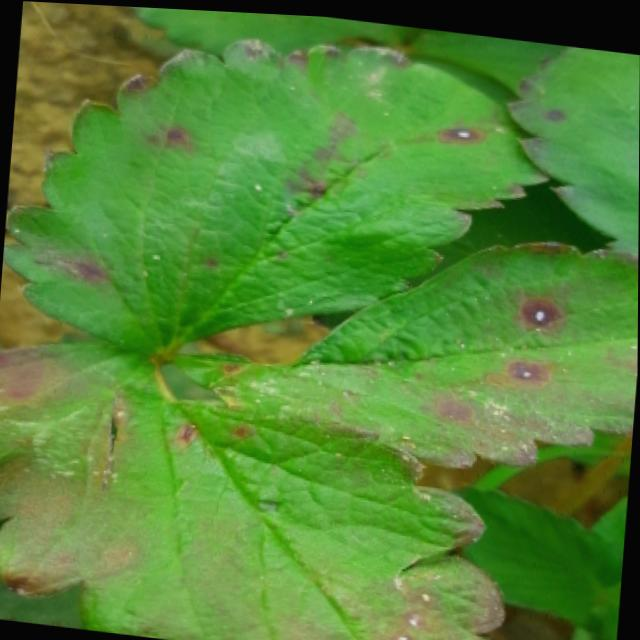Leaf Spot: (2, 34, 550, 360), (0, 337, 504, 640), (167, 236, 639, 467), (504, 39, 640, 248)
